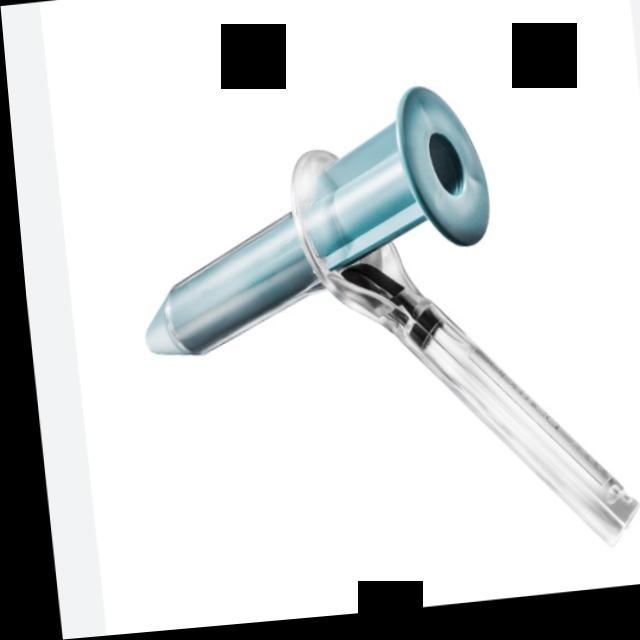Protoscope: (112, 61, 634, 600)
